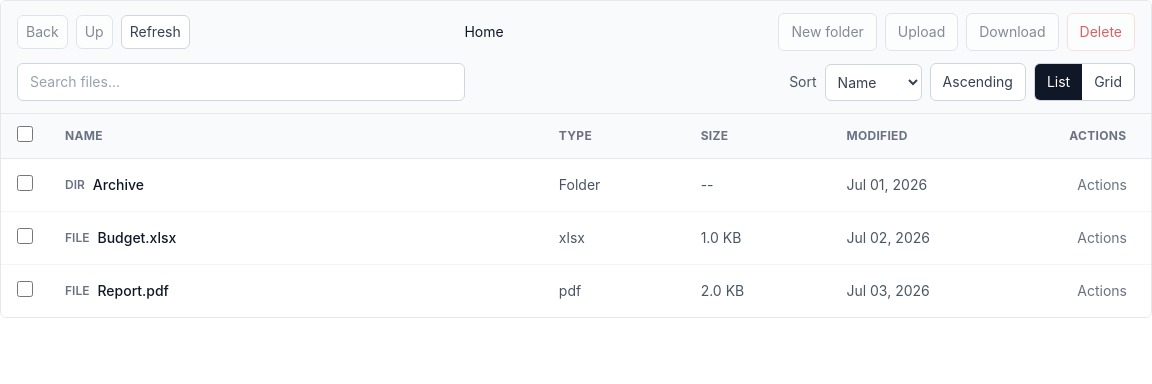
Scenario: FileManager › disables unavailable built-in context menu actions
Click the button with aria-label "Open actions for Archive" at (1102, 185), box [1069,171,1135,199]
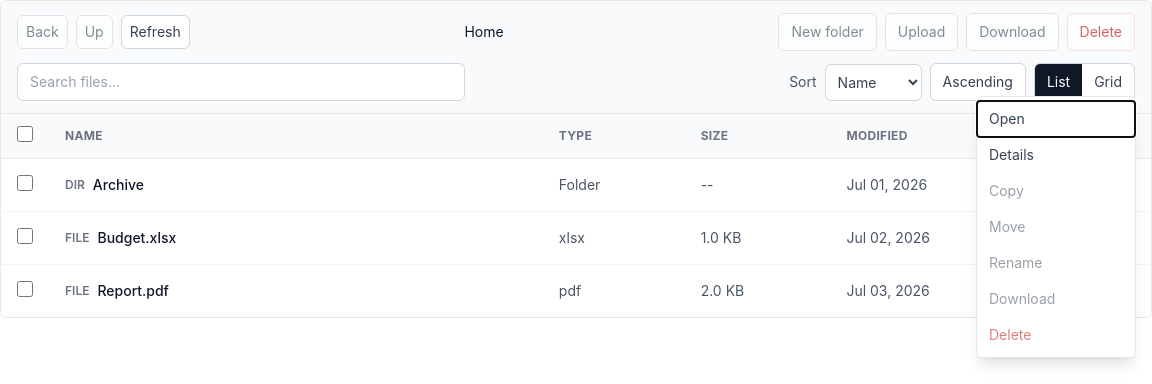
Result: the menu item "Download" is disabled at [977,281,1135,317]
Result: the menu item "Delete" is disabled at [977,317,1135,353]
